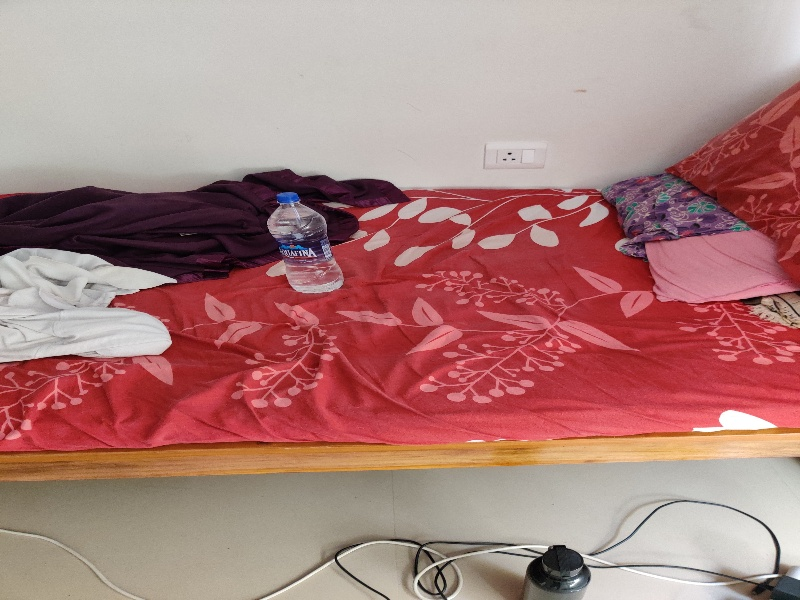bottle: (258, 185, 350, 295)
